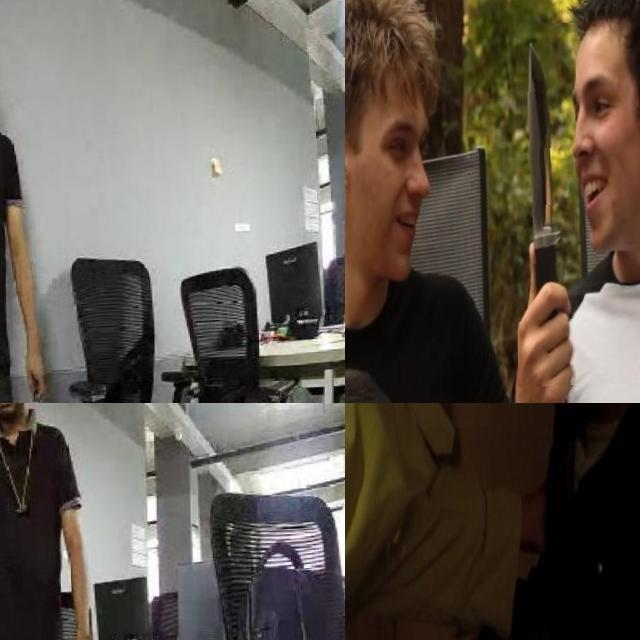-: (514, 27, 578, 390), (26, 381, 46, 403)
gun-knife-thesis - v11 Yolov5 augmented: (410, 403, 492, 477)
